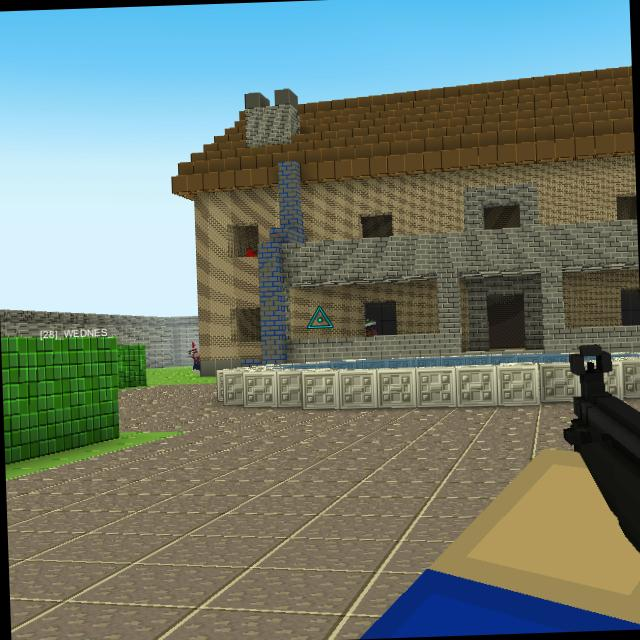enemy: (188, 341, 198, 372), (363, 318, 376, 336)
